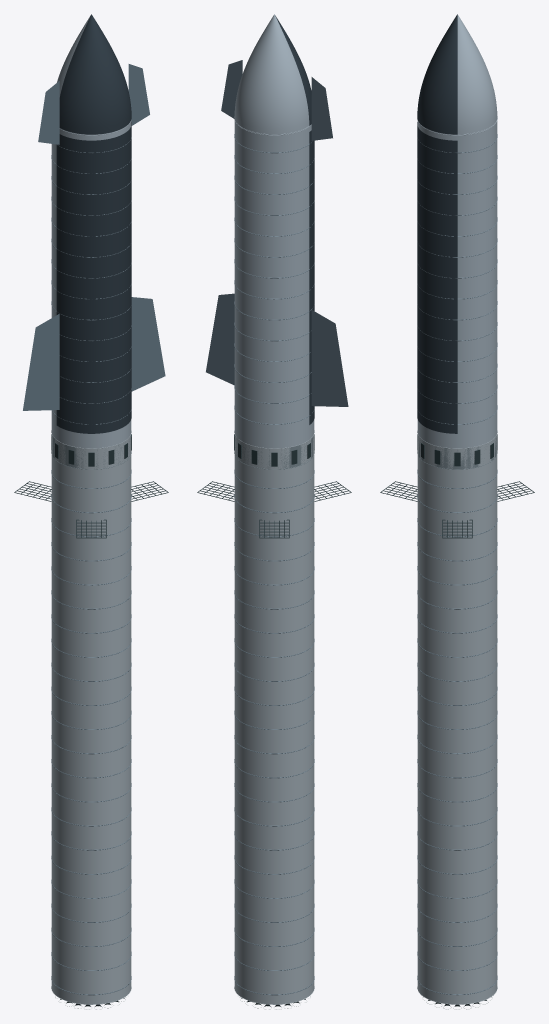
File: starship.glb
The picture shows the model from 3 angles, left to right: view 1: azimuth 30°, elevation 25°; view 2: azimuth 150°, elevation 25°; view 3: azimuth 270°, elevation 25°; orthographic projection.
Visible parts, largest first — view 1: thin-exterior-shell (×3), windward-tps-sector, ship-body-flap (×4), windward-nose-tps, stage-1, stage-2, ogive-fairing; view 2: thin-exterior-shell (×3), ship-body-flap (×4), ogive-fairing, stage-1, stage-2, windward-tps-sector, windward-nose-tps; view 3: thin-exterior-shell (×3), windward-tps-sector, stage-1, windward-nose-tps, ogive-fairing, stage-2.
Part boxes in pixels (x1,y1,x2,y2): thin-exterior-shell (×3): (51,121,131,1004); windward-tps-sector: (56,122,131,433); ship-body-flap (×4): (23,64,165,410); windward-nose-tps: (59,14,131,134); stage-1: (51,430,131,1004); stage-2: (51,120,131,424); ogive-fairing: (57,15,90,96); thin-exterior-shell (×3): (234,121,314,1004); ship-body-flap (×4): (206,60,348,406); ogive-fairing: (234,14,309,134); stage-1: (234,430,314,1004); stage-2: (234,116,314,424); windward-tps-sector: (309,130,314,424); windward-nose-tps: (275,15,311,125); thin-exterior-shell (×3): (417,121,497,1004); windward-tps-sector: (417,122,457,433); stage-1: (417,431,497,1004); windward-nose-tps: (417,14,457,134); ogive-fairing: (457,15,497,134); stage-2: (417,116,497,424).
Bounding box in the file's own units: 1.2 × 7.87 × 1.12.
